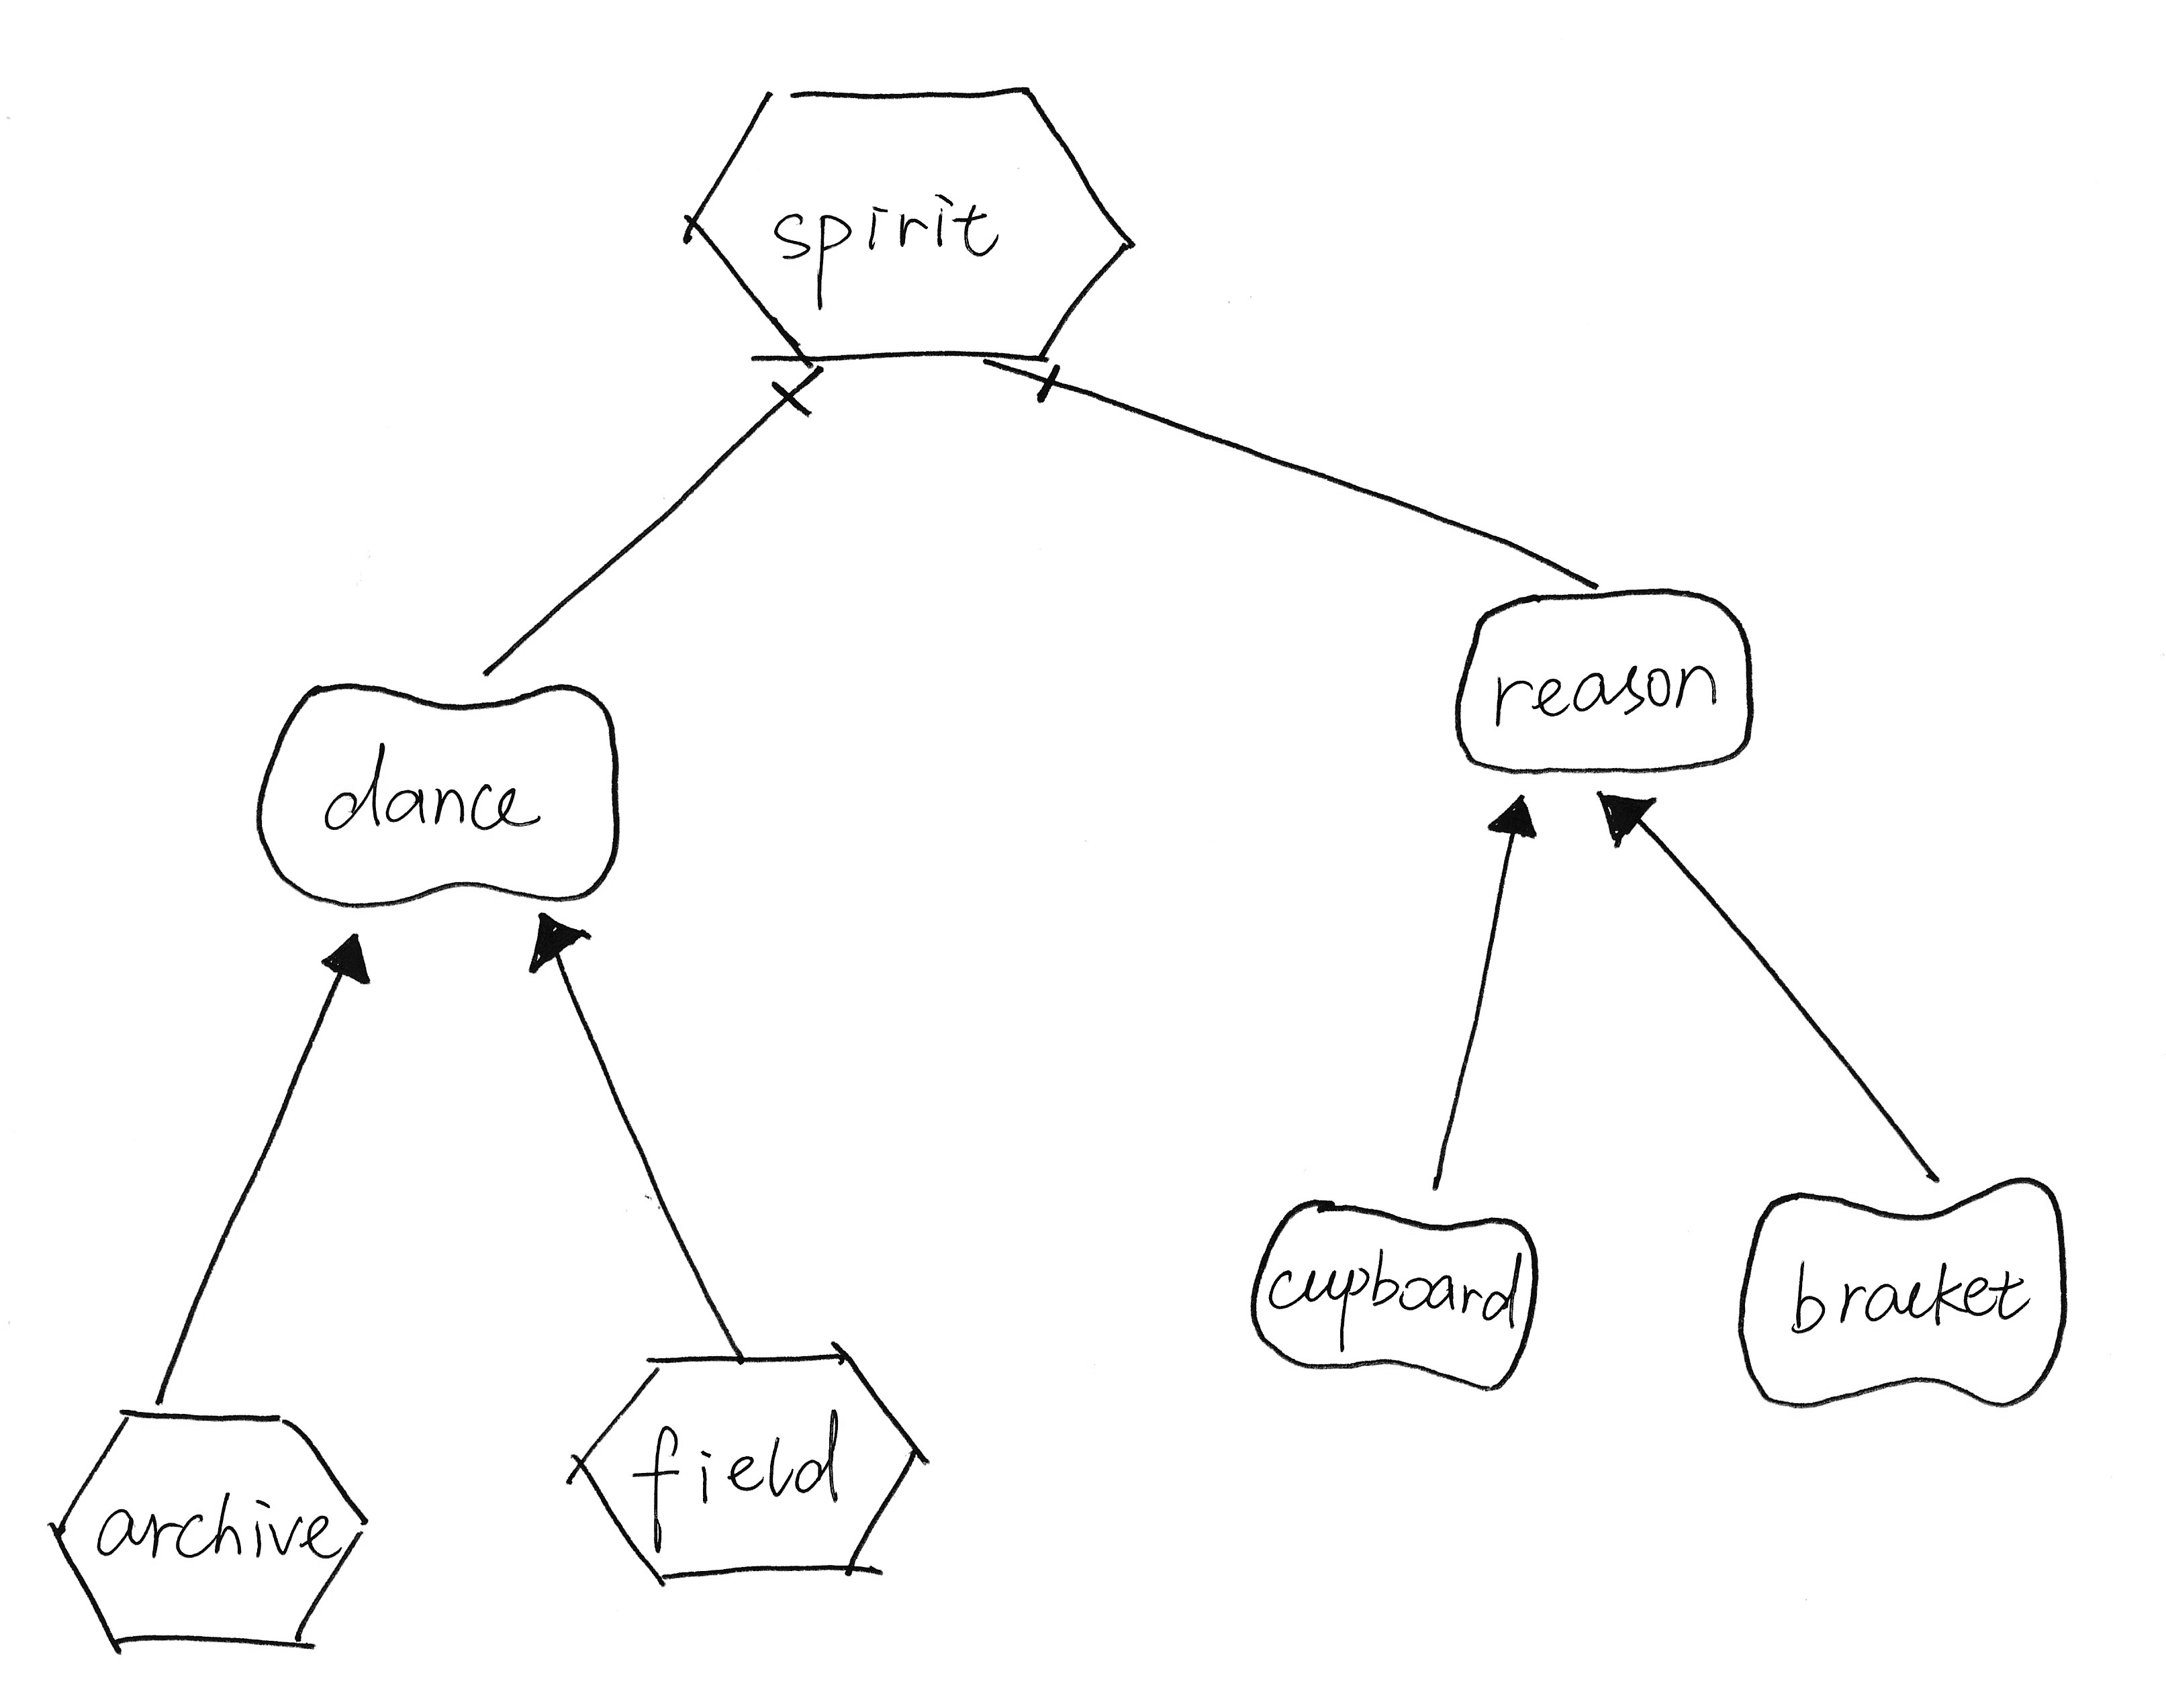and: (963, 341, 1097, 418), (752, 350, 835, 429)
goal: (1440, 571, 1774, 791)
or: (517, 898, 603, 988), (301, 917, 387, 998), (1586, 775, 1667, 858), (1475, 784, 1552, 856)
quality: (241, 661, 647, 919), (1716, 1162, 2083, 1427), (1231, 1188, 1570, 1406)
task: (659, 62, 1152, 381), (547, 1335, 946, 1603), (37, 1392, 389, 1657)
